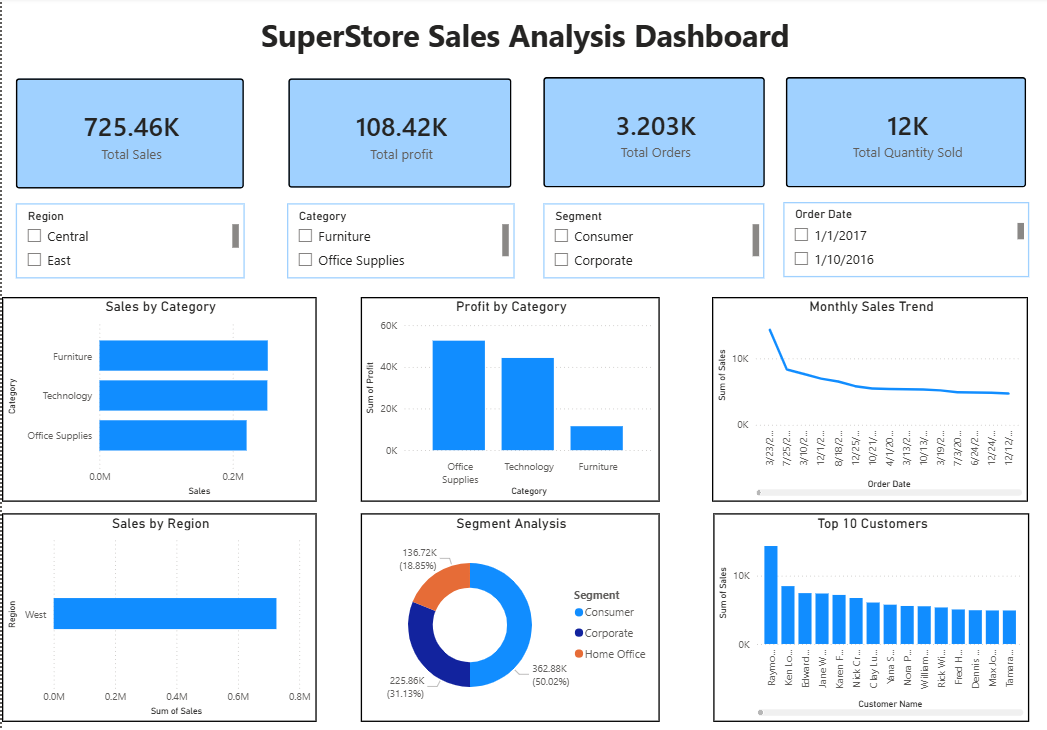

Layout of this report page (visuals, bound fields, positions):
{"tool":"powerbi","page":{"name":"Page 1","canvas":[1280,900],"ordinal":0},"visuals":[{"type":"cardVisual","fields":{"Data":["Sum(Sample - Superstore.Sales)"]},"box":[0,82.5,313.4,169.7],"z":0},{"type":"cardVisual","fields":{"Data":["Sum(Sample - Superstore.Profit)"]},"box":[333.2,82.5,307.2,168.1],"z":1000},{"type":"cardVisual","fields":{"Data":["CountNonNull(Sample - Superstore.Order ID)"]},"box":[645,81,305.7,169.7],"z":2000},{"type":"cardVisual","fields":{"Data":["Sum(Sample - Superstore.Quantity)"]},"box":[941.6,81,328.6,169.7],"z":3000},{"type":"clusteredBarChart","fields":{"Category":["Sample - Superstore.Category"],"Y":["Sum(Sample - Superstore.Sales)"]},"box":[0,366.8,385.2,250.7],"z":4000},{"type":"clusteredColumnChart","title":"Profit by Category","fields":{"Category":["Sample - Superstore.Category"],"Y":["Sum(Sample - Superstore.Profit)"]},"box":[438.7,366.8,365.3,250.7],"z":5000},{"type":"lineChart","title":"Monthly Sales Trend","fields":{"Category":["Sample - Superstore.Order Date"],"Y":["Sum(Sample - Superstore.Sales)"]},"box":[868.2,366.8,386.7,250.7],"z":6000},{"type":"barChart","title":"Sales by Region","fields":{"Category":["Sample - Superstore.Region"],"Y":["Sum(Sample - Superstore.Sales)"]},"box":[0,631.3,385.2,255.3],"z":7000},{"type":"donutChart","title":"Segment Analysis","fields":{"Category":["Sample - Superstore.Segment"],"Y":["Sum(Sample - Superstore.Sales)"]},"box":[438.7,631.3,365.3,255.3],"z":8000},{"type":"clusteredColumnChart","title":"Top 10 Customers","fields":{"Category":["Sample - Superstore.Customer Name"],"Y":["Sum(Sample - Superstore.Sales)"]},"box":[869.7,631.3,386.7,255.3],"z":9000},{"type":"slicer","fields":{"Values":["Sample - Superstore.Region"]},"box":[16.8,252.2,279.7,91.7],"z":10000},{"type":"slicer","fields":{"Values":["Sample - Superstore.Category"]},"box":[348.5,252.2,278.2,91.7],"z":11000},{"type":"slicer","fields":{"Values":["Sample - Superstore.Segment"]},"box":[661.9,252.2,270.6,91.7],"z":12000},{"type":"slicer","fields":{"Values":["Sample - Superstore.Order Date"]},"box":[955.3,250.7,301.1,91.7],"z":13000},{"type":"textbox","box":[0,16.8,1279.4,64.2],"z":14000}]}

Visuals, with their boxes in screenshot pixels (x1, y1, x2, y2), scaled from the page's 1280x900 canvas onto the 1047x730 screenshot:
cardVisual - Sum(Sample - Superstore.Sales): {"left": 0, "top": 67, "right": 256, "bottom": 205}
cardVisual - Sum(Sample - Superstore.Profit): {"left": 273, "top": 67, "right": 524, "bottom": 203}
cardVisual - CountNonNull(Sample - Superstore.Order ID): {"left": 528, "top": 66, "right": 778, "bottom": 203}
cardVisual - Sum(Sample - Superstore.Quantity): {"left": 770, "top": 66, "right": 1039, "bottom": 203}
clusteredBarChart - Sample - Superstore.Category x Sum(Sample - Superstore.Sales): {"left": 0, "top": 298, "right": 315, "bottom": 501}
"Profit by Category" clusteredColumnChart: {"left": 359, "top": 298, "right": 658, "bottom": 501}
"Monthly Sales Trend" lineChart: {"left": 710, "top": 298, "right": 1026, "bottom": 501}
"Sales by Region" barChart: {"left": 0, "top": 512, "right": 315, "bottom": 719}
"Segment Analysis" donutChart: {"left": 359, "top": 512, "right": 658, "bottom": 719}
"Top 10 Customers" clusteredColumnChart: {"left": 711, "top": 512, "right": 1028, "bottom": 719}
slicer - Sample - Superstore.Region: {"left": 14, "top": 205, "right": 243, "bottom": 279}
slicer - Sample - Superstore.Category: {"left": 285, "top": 205, "right": 513, "bottom": 279}
slicer - Sample - Superstore.Segment: {"left": 541, "top": 205, "right": 763, "bottom": 279}
slicer - Sample - Superstore.Order Date: {"left": 781, "top": 203, "right": 1028, "bottom": 278}
textbox: {"left": 0, "top": 14, "right": 1046, "bottom": 66}
